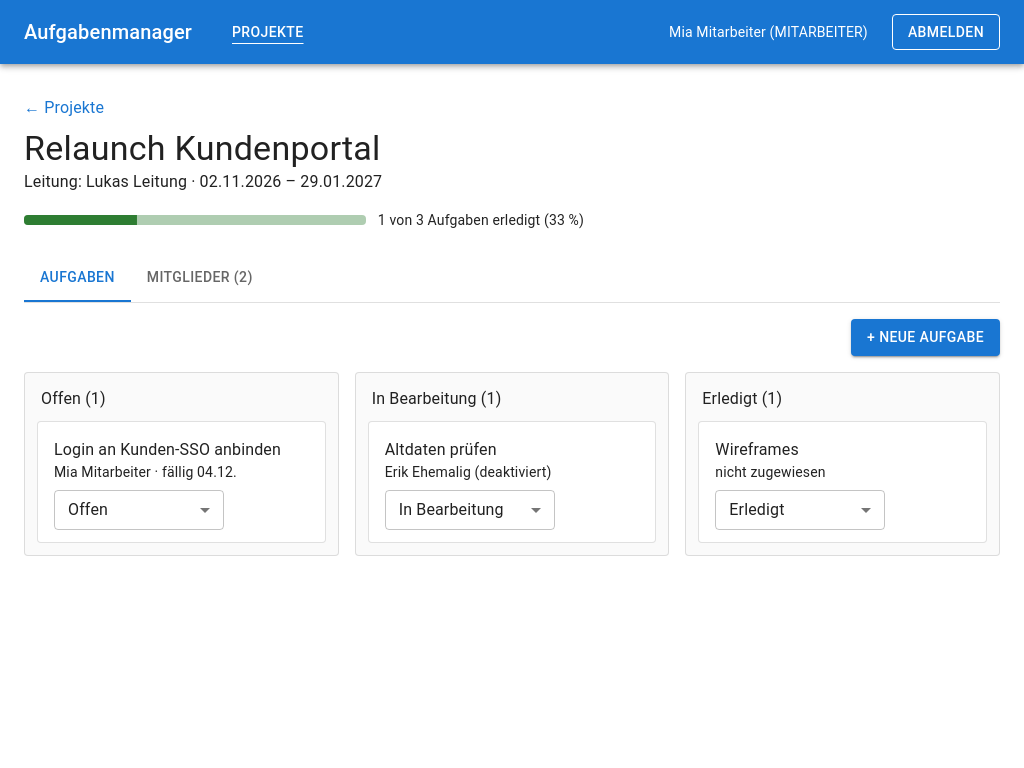
Test case: Projektdetail (wf_03, wf_04) › ändert den Status per Auswahl mit Version und lädt den Fortschritt neu
Click the dropdown named "Status von Login an Kunden-SSO anbinden": (88, 510) [68, 500, 108, 519]
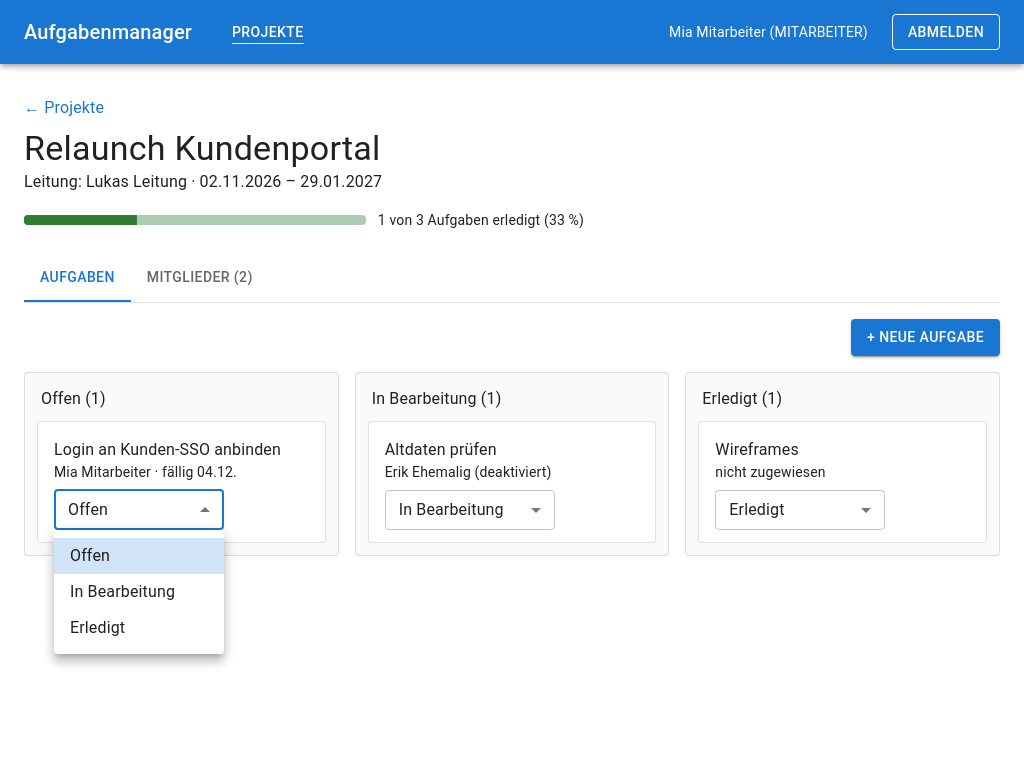
Click the option "Erledigt": (98, 628) [70, 618, 125, 637]
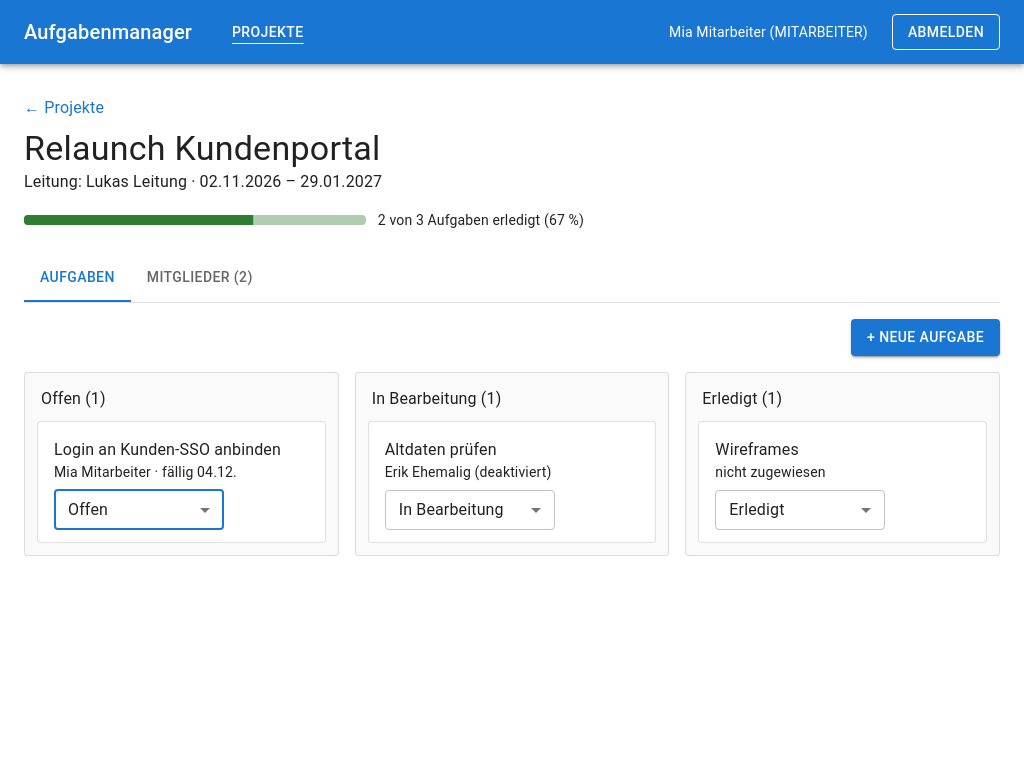
Check: the text "2 von 3 Aufgaben erledigt (67 %)" is shown, box [378, 210, 584, 230]
